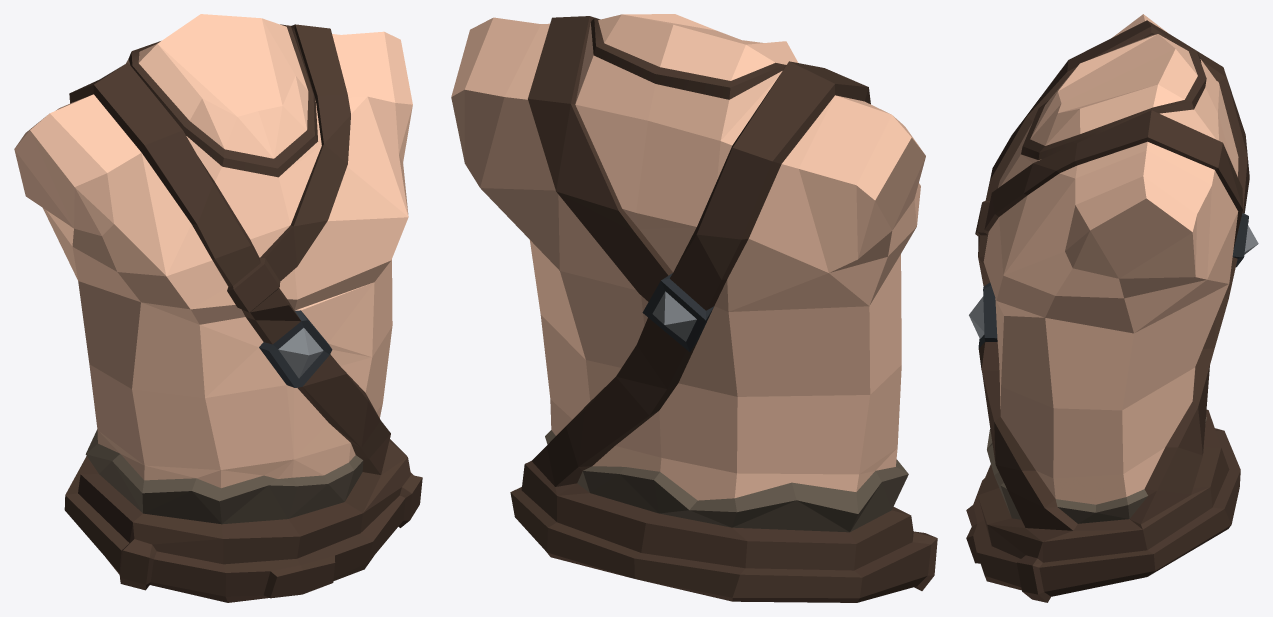
Rendered from Chr_Torso_Male_01_Static.fbx.
The picture shows the model from 3 angles, left to right: view 1: azimuth 30°, elevation 25°; view 2: azimuth 150°, elevation 25°; view 3: azimuth 270°, elevation 25°; orthographic projection. The views are drawn at different scales.
Visible parts, largest first — view 1: Chr_Torso_Male_01_Static; view 2: Chr_Torso_Male_01_Static; view 3: Chr_Torso_Male_01_Static.
Boxes of the visible parts, x1,y1,x2,y2 form: Chr_Torso_Male_01_Static: (14, 14, 422, 602); Chr_Torso_Male_01_Static: (451, 14, 937, 602); Chr_Torso_Male_01_Static: (966, 14, 1258, 602).
Size of the model in its own units: 0.4944 by 0.6478 by 0.3401.
